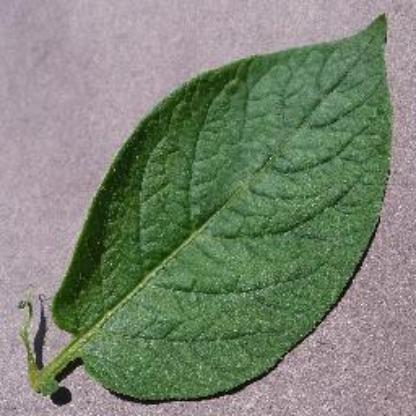Healthy-plant: (26, 10, 394, 402)
